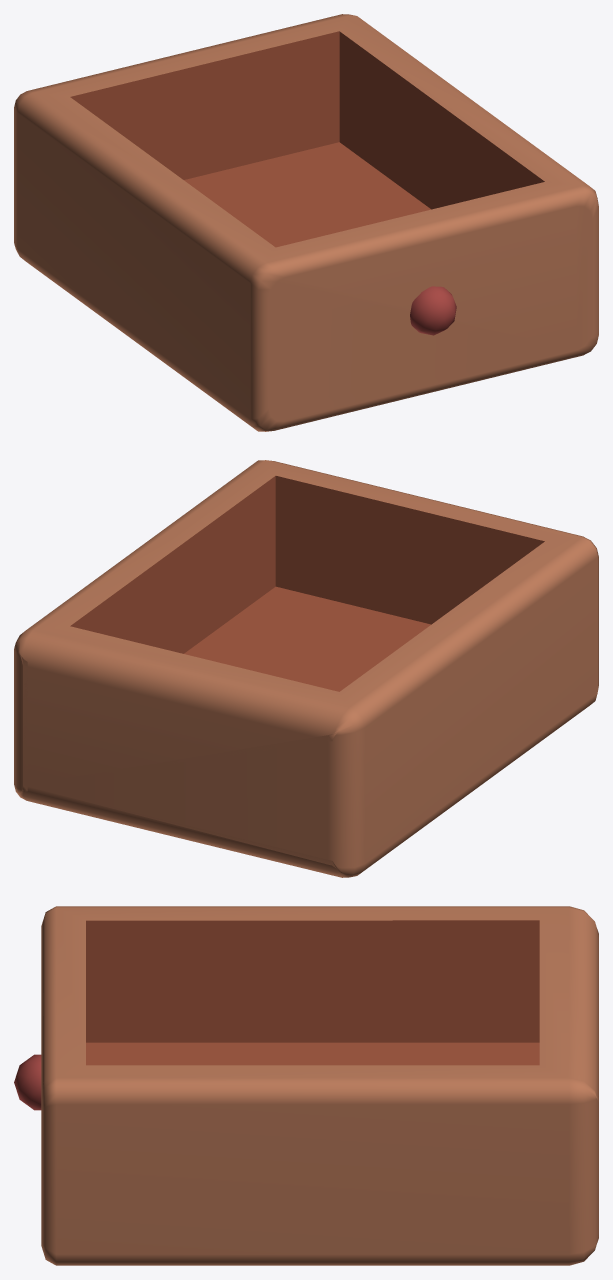
Rendered from door.fbx.
3 views of the same model, one above another, from view 1: azimuth 30°, elevation 25°; view 2: azimuth 150°, elevation 25°; view 3: azimuth 270°, elevation 25° (orthographic). The views are drawn at different scales.
Visible parts, largest first — view 1: door; view 2: door; view 3: door.
Boxes of the visible parts, <box> form: door: <box>14,14,598,431</box>; door: <box>14,460,598,877</box>; door: <box>14,906,598,1265</box>.
Size of the model in its own units: 0.883 by 0.41 by 1.17.
